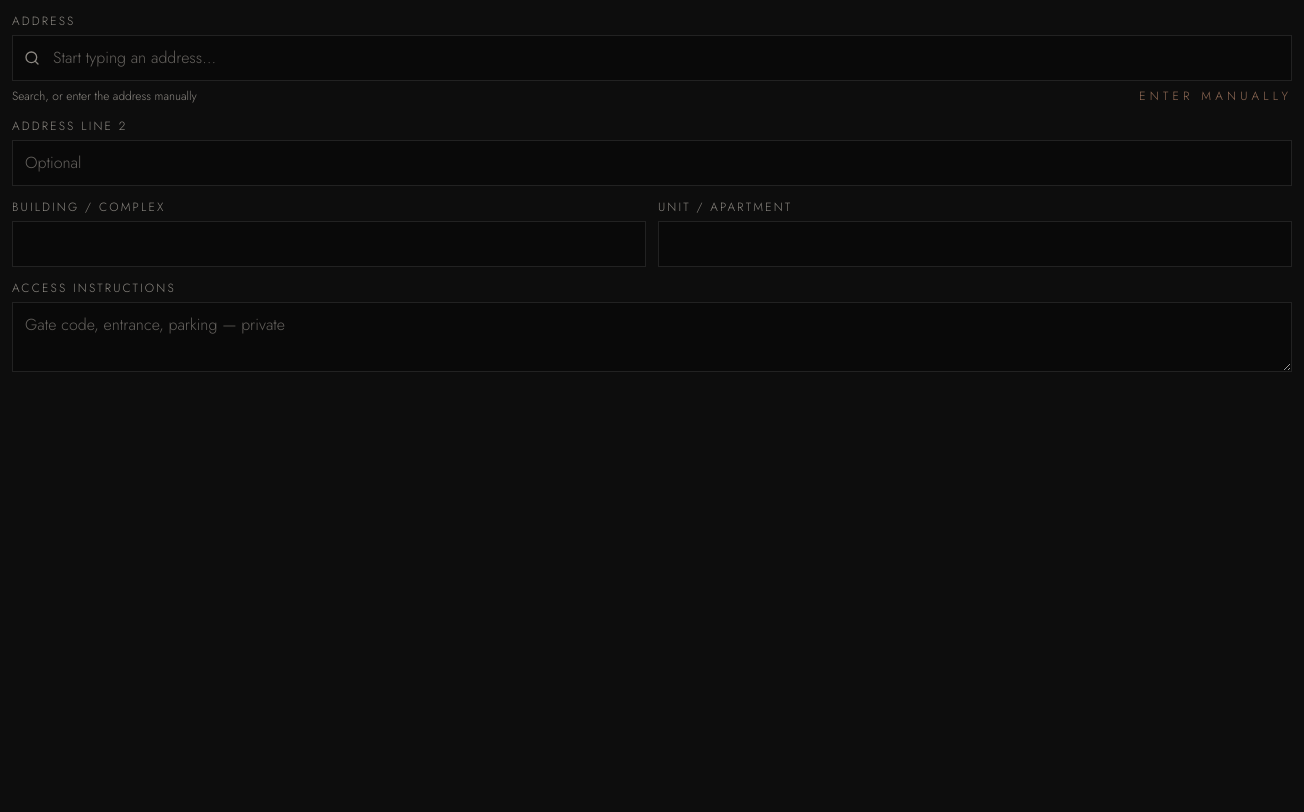
Test case: AddressAutocomplete › falls back to manual entry when the Places API fails
The image size is (1304, 812).
Type "10 Main" into the dropdown at {"x": 652, "y": 58}, box [12,35,1292,81]
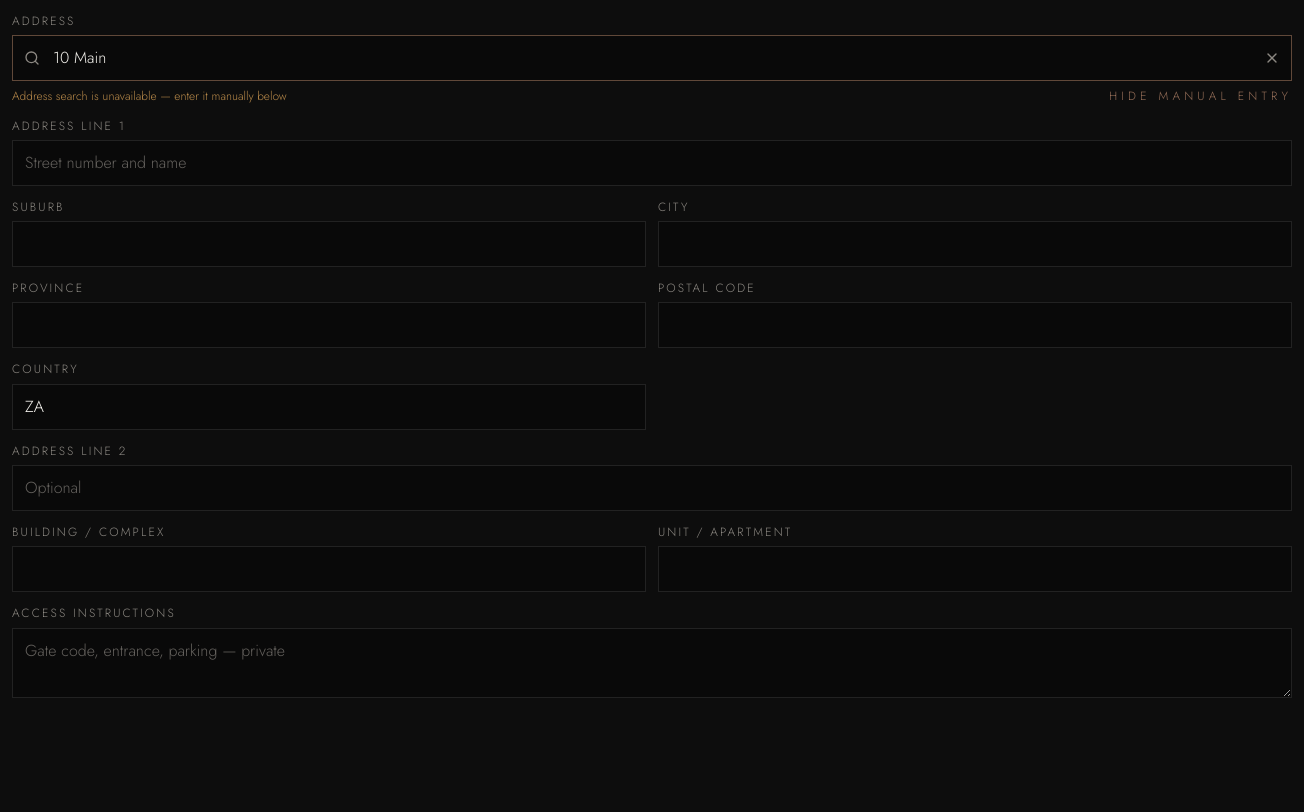
Result: the text "Address search is unavailable — enter it manually below" is shown at [12,87,287,104]
Result: the field labelled "Address line 1" is shown at [12,140,1292,186]
